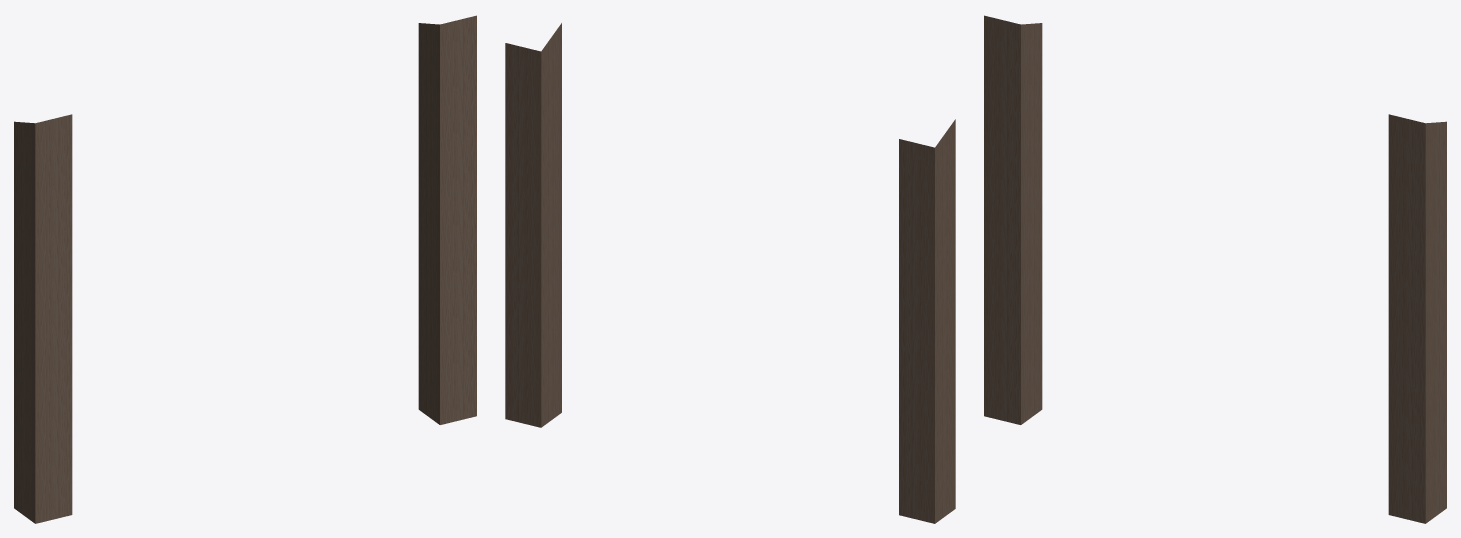
Rendered from kd_stage_135ded_4_0_bounded.glb.
3 views of the same model, side by side, from view 1: azimuth 30°, elevation 25°; view 2: azimuth 150°, elevation 25°; view 3: azimuth 330°, elevation 25° (orthographic). The views are drawn at different scales.
Visible parts, largest first — view 1: kd_stage_135ded_4_0_bounded; view 2: kd_stage_135ded_4_0_bounded; view 3: kd_stage_135ded_4_0_bounded.
Part boxes in pixels (x1,y1,x2,y2): kd_stage_135ded_4_0_bounded: [14, 15, 476, 523]; kd_stage_135ded_4_0_bounded: [505, 23, 955, 523]; kd_stage_135ded_4_0_bounded: [984, 15, 1446, 523].
Size of the model in its own units: 3.6 by 3.12 by 0.3.
Materials: 1 (1 with a texture image).
